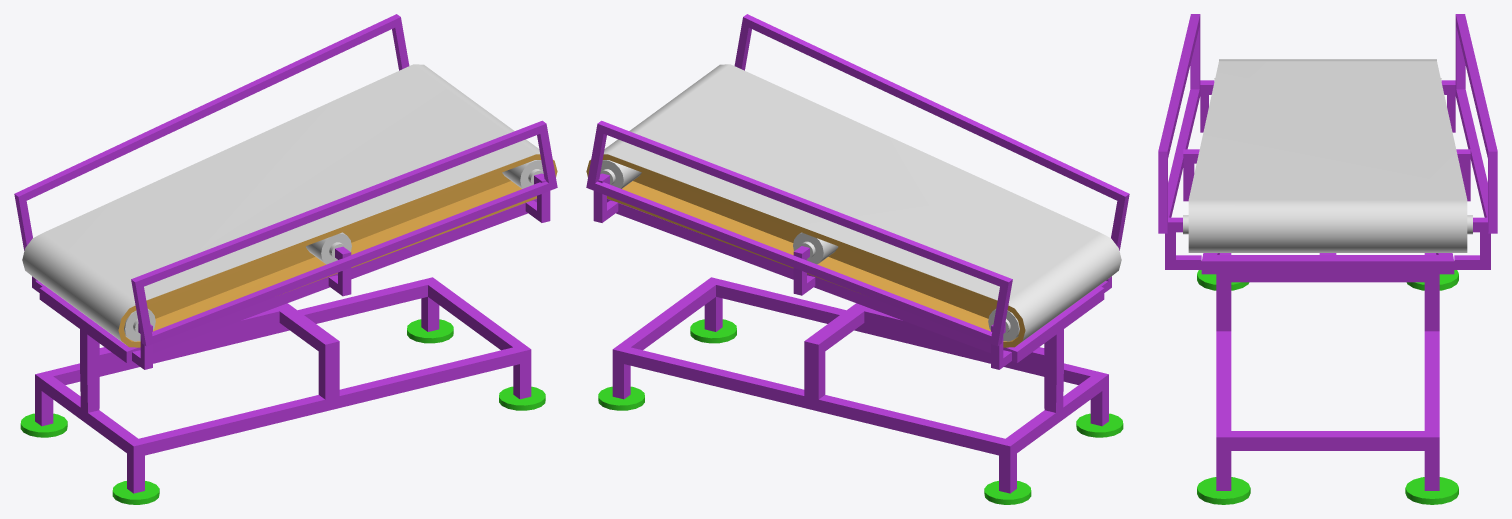
Rendered from mesh_conveyorBelt_splitter.fbx.
3 views of the same model, side by side, from view 1: azimuth 30°, elevation 25°; view 2: azimuth 150°, elevation 25°; view 3: azimuth 270°, elevation 25° (orthographic). The views are drawn at different scales.
Visible parts, largest first — view 1: mesh_conveyorBelt_splitter_belt, mesh_conveyorBelt_splitter_frame; view 2: mesh_conveyorBelt_splitter_belt, mesh_conveyorBelt_splitter_frame; view 3: mesh_conveyorBelt_splitter_belt, mesh_conveyorBelt_splitter_frame.
Boxes of the visible parts, x1,y1,x2,y2 form: mesh_conveyorBelt_splitter_belt: [14, 14, 557, 369]; mesh_conveyorBelt_splitter_frame: [20, 277, 545, 504]; mesh_conveyorBelt_splitter_belt: [586, 14, 1129, 369]; mesh_conveyorBelt_splitter_frame: [598, 277, 1123, 504]; mesh_conveyorBelt_splitter_belt: [1158, 14, 1497, 274]; mesh_conveyorBelt_splitter_frame: [1197, 253, 1458, 504].
Size of the model in its own units: 201 by 134 by 122.
